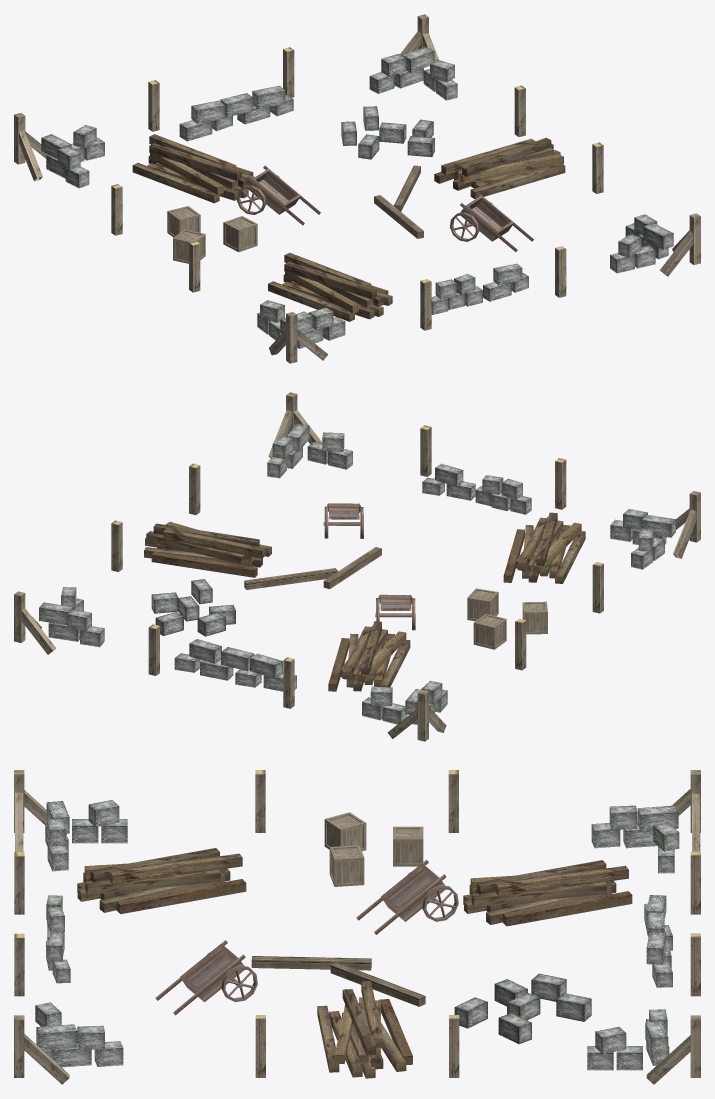
File: fndn_6x7.glb
3 renders of one model, top to bottom at view 1: azimuth 30°, elevation 25°; view 2: azimuth 150°, elevation 25°; view 3: azimuth 270°, elevation 25°, orthographic. The views are drawn at different scales.
Visible parts, largest first — view 1: fndn_6x7_part24, fndn_6x7_part25, fndn_6x7_part26, fndn_6x7_part17, fndn_6x7_part16, fndn_6x7_part18, fndn_6x7_part14, fndn_6x7_part15, fndn_6x7_part13, fndn_6x7_part23, fndn_6x7_part22, fndn_6x7_part4 (+17 smaller); view 2: fndn_6x7_part24, fndn_6x7_part25, fndn_6x7_part26, fndn_6x7_part17, fndn_6x7_part18, fndn_6x7_part15, fndn_6x7_part13, fndn_6x7_part16, fndn_6x7_part14, fndn_6x7_part3, fndn_6x7_part2, fndn_6x7_part4 (+17 smaller); view 3: fndn_6x7_part25, fndn_6x7_part26, fndn_6x7_part24, fndn_6x7_part14, fndn_6x7_part15, fndn_6x7_part13, fndn_6x7_part16, fndn_6x7_part23, fndn_6x7_part22, fndn_6x7_part17, fndn_6x7_part18, fndn_6x7_part1 (+22 smaller).
Boxes of the visible parts, box(x1,y1,x2,y2) form: fndn_6x7_part24: box(434, 137, 565, 199); fndn_6x7_part25: box(268, 252, 392, 321); fndn_6x7_part26: box(132, 134, 254, 203); fndn_6x7_part17: box(179, 85, 293, 141); fndn_6x7_part16: box(369, 47, 457, 100); fndn_6x7_part18: box(431, 263, 528, 314); fndn_6x7_part14: box(41, 125, 104, 188); fndn_6x7_part15: box(610, 214, 673, 273); fndn_6x7_part13: box(257, 300, 345, 348); fndn_6x7_part23: box(450, 192, 533, 251); fndn_6x7_part22: box(236, 165, 320, 225); fndn_6x7_part4: box(269, 312, 327, 363); fndn_6x7_part24: box(144, 521, 271, 577); fndn_6x7_part25: box(503, 512, 585, 583); fndn_6x7_part26: box(328, 621, 410, 691); fndn_6x7_part17: box(174, 639, 296, 691); fndn_6x7_part18: box(422, 463, 531, 514); fndn_6x7_part15: box(267, 424, 352, 478); fndn_6x7_part13: box(610, 509, 675, 569); fndn_6x7_part16: box(39, 587, 104, 647); fndn_6x7_part14: box(362, 680, 447, 724); fndn_6x7_part3: box(387, 690, 446, 741); fndn_6x7_part2: box(14, 591, 56, 654); fndn_6x7_part4: box(666, 491, 700, 558); fndn_6x7_part25: box(77, 848, 246, 914); fndn_6x7_part26: box(463, 860, 632, 926); fndn_6x7_part24: box(317, 981, 412, 1078); fndn_6x7_part14: box(591, 805, 679, 873); fndn_6x7_part15: box(35, 1002, 123, 1067); fndn_6x7_part13: box(45, 800, 127, 871); fndn_6x7_part16: box(587, 1009, 669, 1070); fndn_6x7_part23: box(155, 940, 257, 1015); fndn_6x7_part22: box(356, 859, 458, 934); fndn_6x7_part17: box(644, 895, 672, 987); fndn_6x7_part18: box(46, 895, 70, 983); fndn_6x7_part1: box(14, 1015, 69, 1084).
Bounding box in the file's own units: 5.14 × 0.971 × 5.97.
5 materials, 5 textured.
